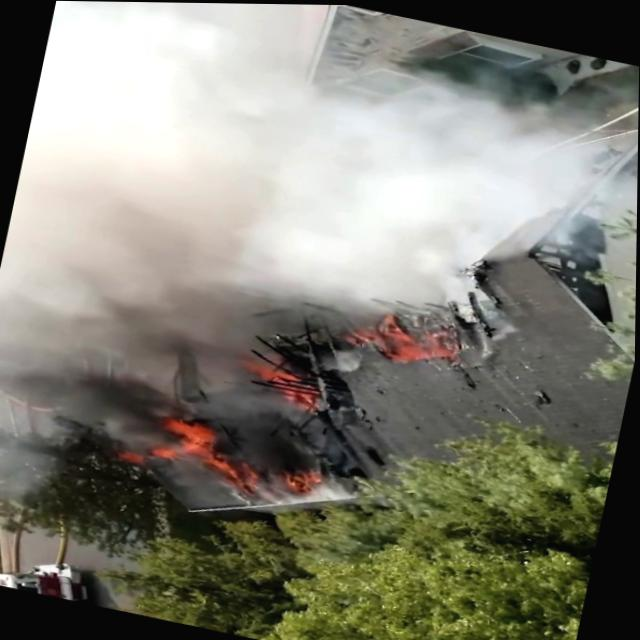smoke: (7, 22, 446, 318)
